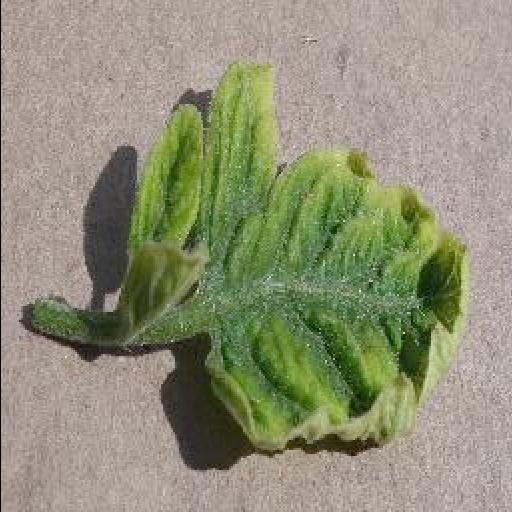disease_tomato: (127, 63, 473, 452)
